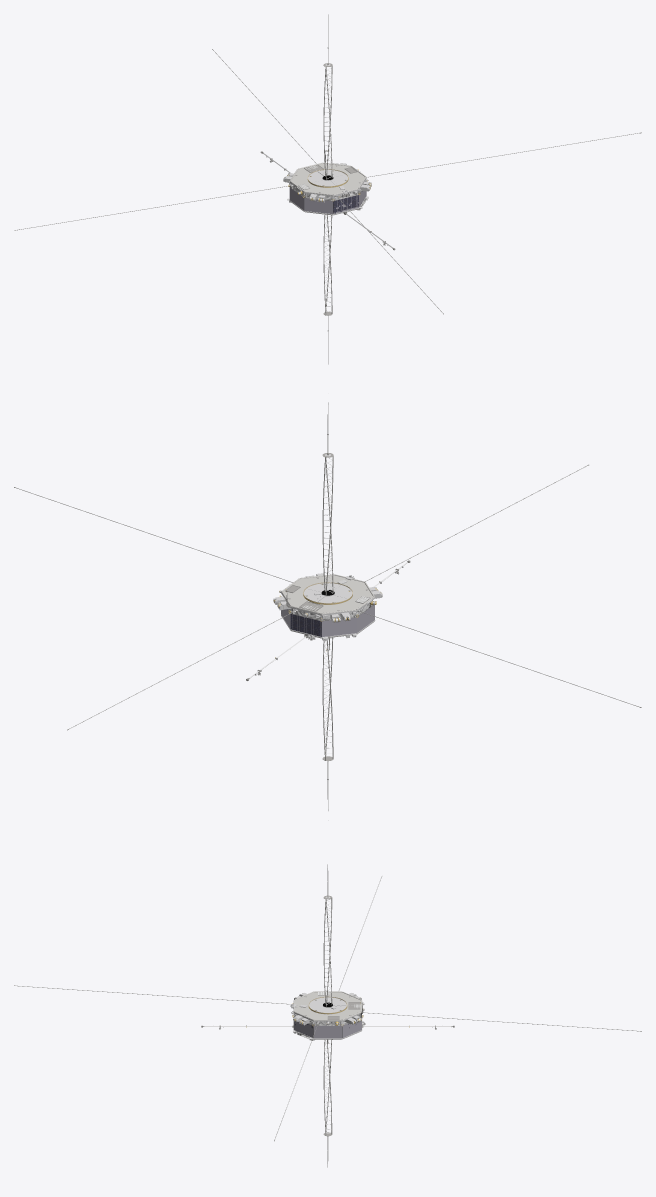
File: mms.glb
3 renders of one model, top to bottom at view 1: azimuth 30°, elevation 25°; view 2: azimuth 150°, elevation 25°; view 3: azimuth 270°, elevation 25°, orthographic. The views are drawn at different scales.
Visible parts, largest first — view 1: MainBus; view 2: MainBus; view 3: MainBus.
Part boxes in pixels (x1,y1,x2,y2): MainBus: [14, 14, 641, 364]; MainBus: [14, 402, 641, 810]; MainBus: [14, 864, 641, 1167].
Size of the model in its own units: 3.5 by 2.05 by 3.5.
